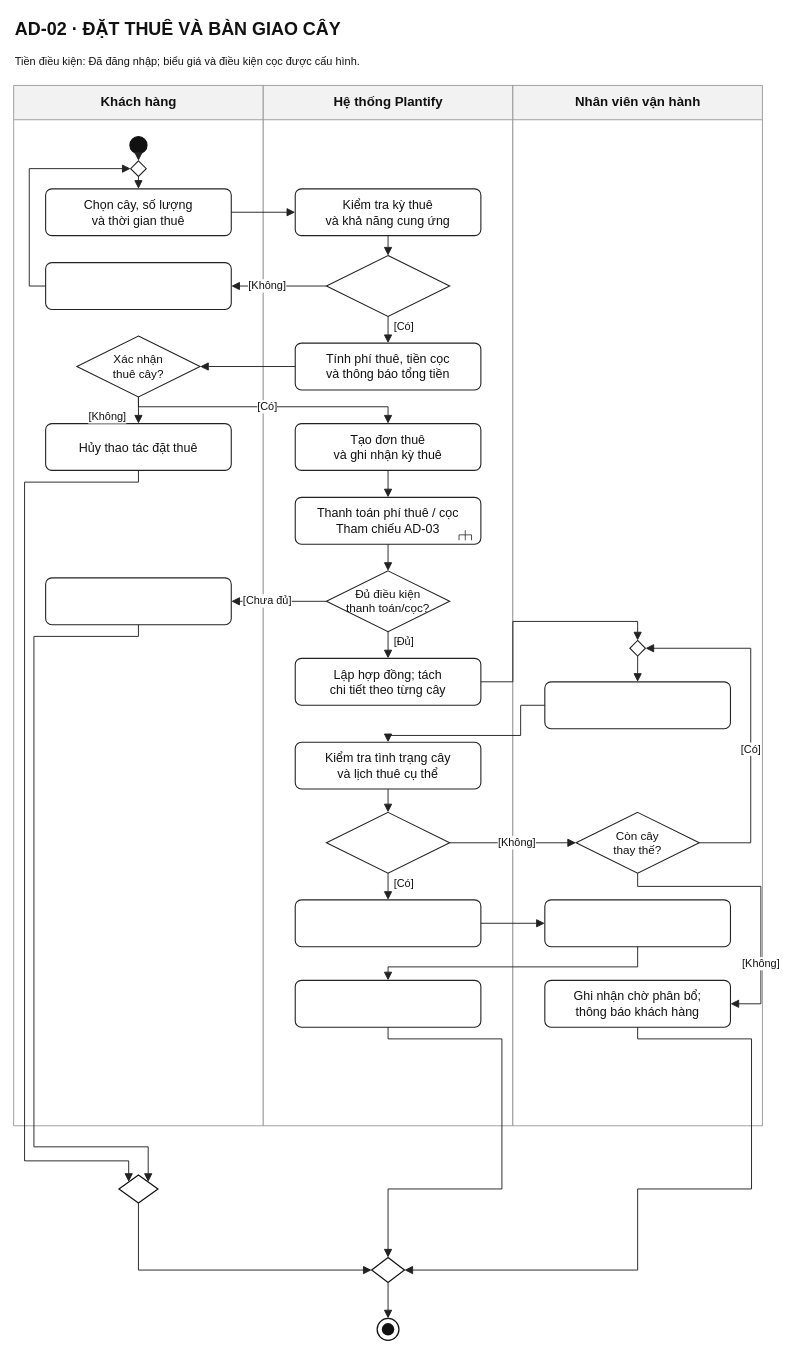
This 793x1354 diagram has some shape labels left out. Each missing label, with the centre of its shape:
"Bàn giao cây và xác nhận giao nhận" goes at (637,923).
"Chọn cây vật lý đúng biến thể" goes at (637,705).
"Ghi nhận hợp đồng đang hiệu lực" goes at (387,1003).
"Gán cây và giữ lịch thuê" goes at (387,923).
"Gán được cây đã chọn?" goes at (387,842).
"Nhận kết quả chưa đủ điều kiện; đơn chờ xử lý" goes at (138,601).
"Yêu cầu hợp lệ?" goes at (387,286).
"Điều chỉnh cây, số lượng hoặc thời gian thuê" goes at (138,286).
